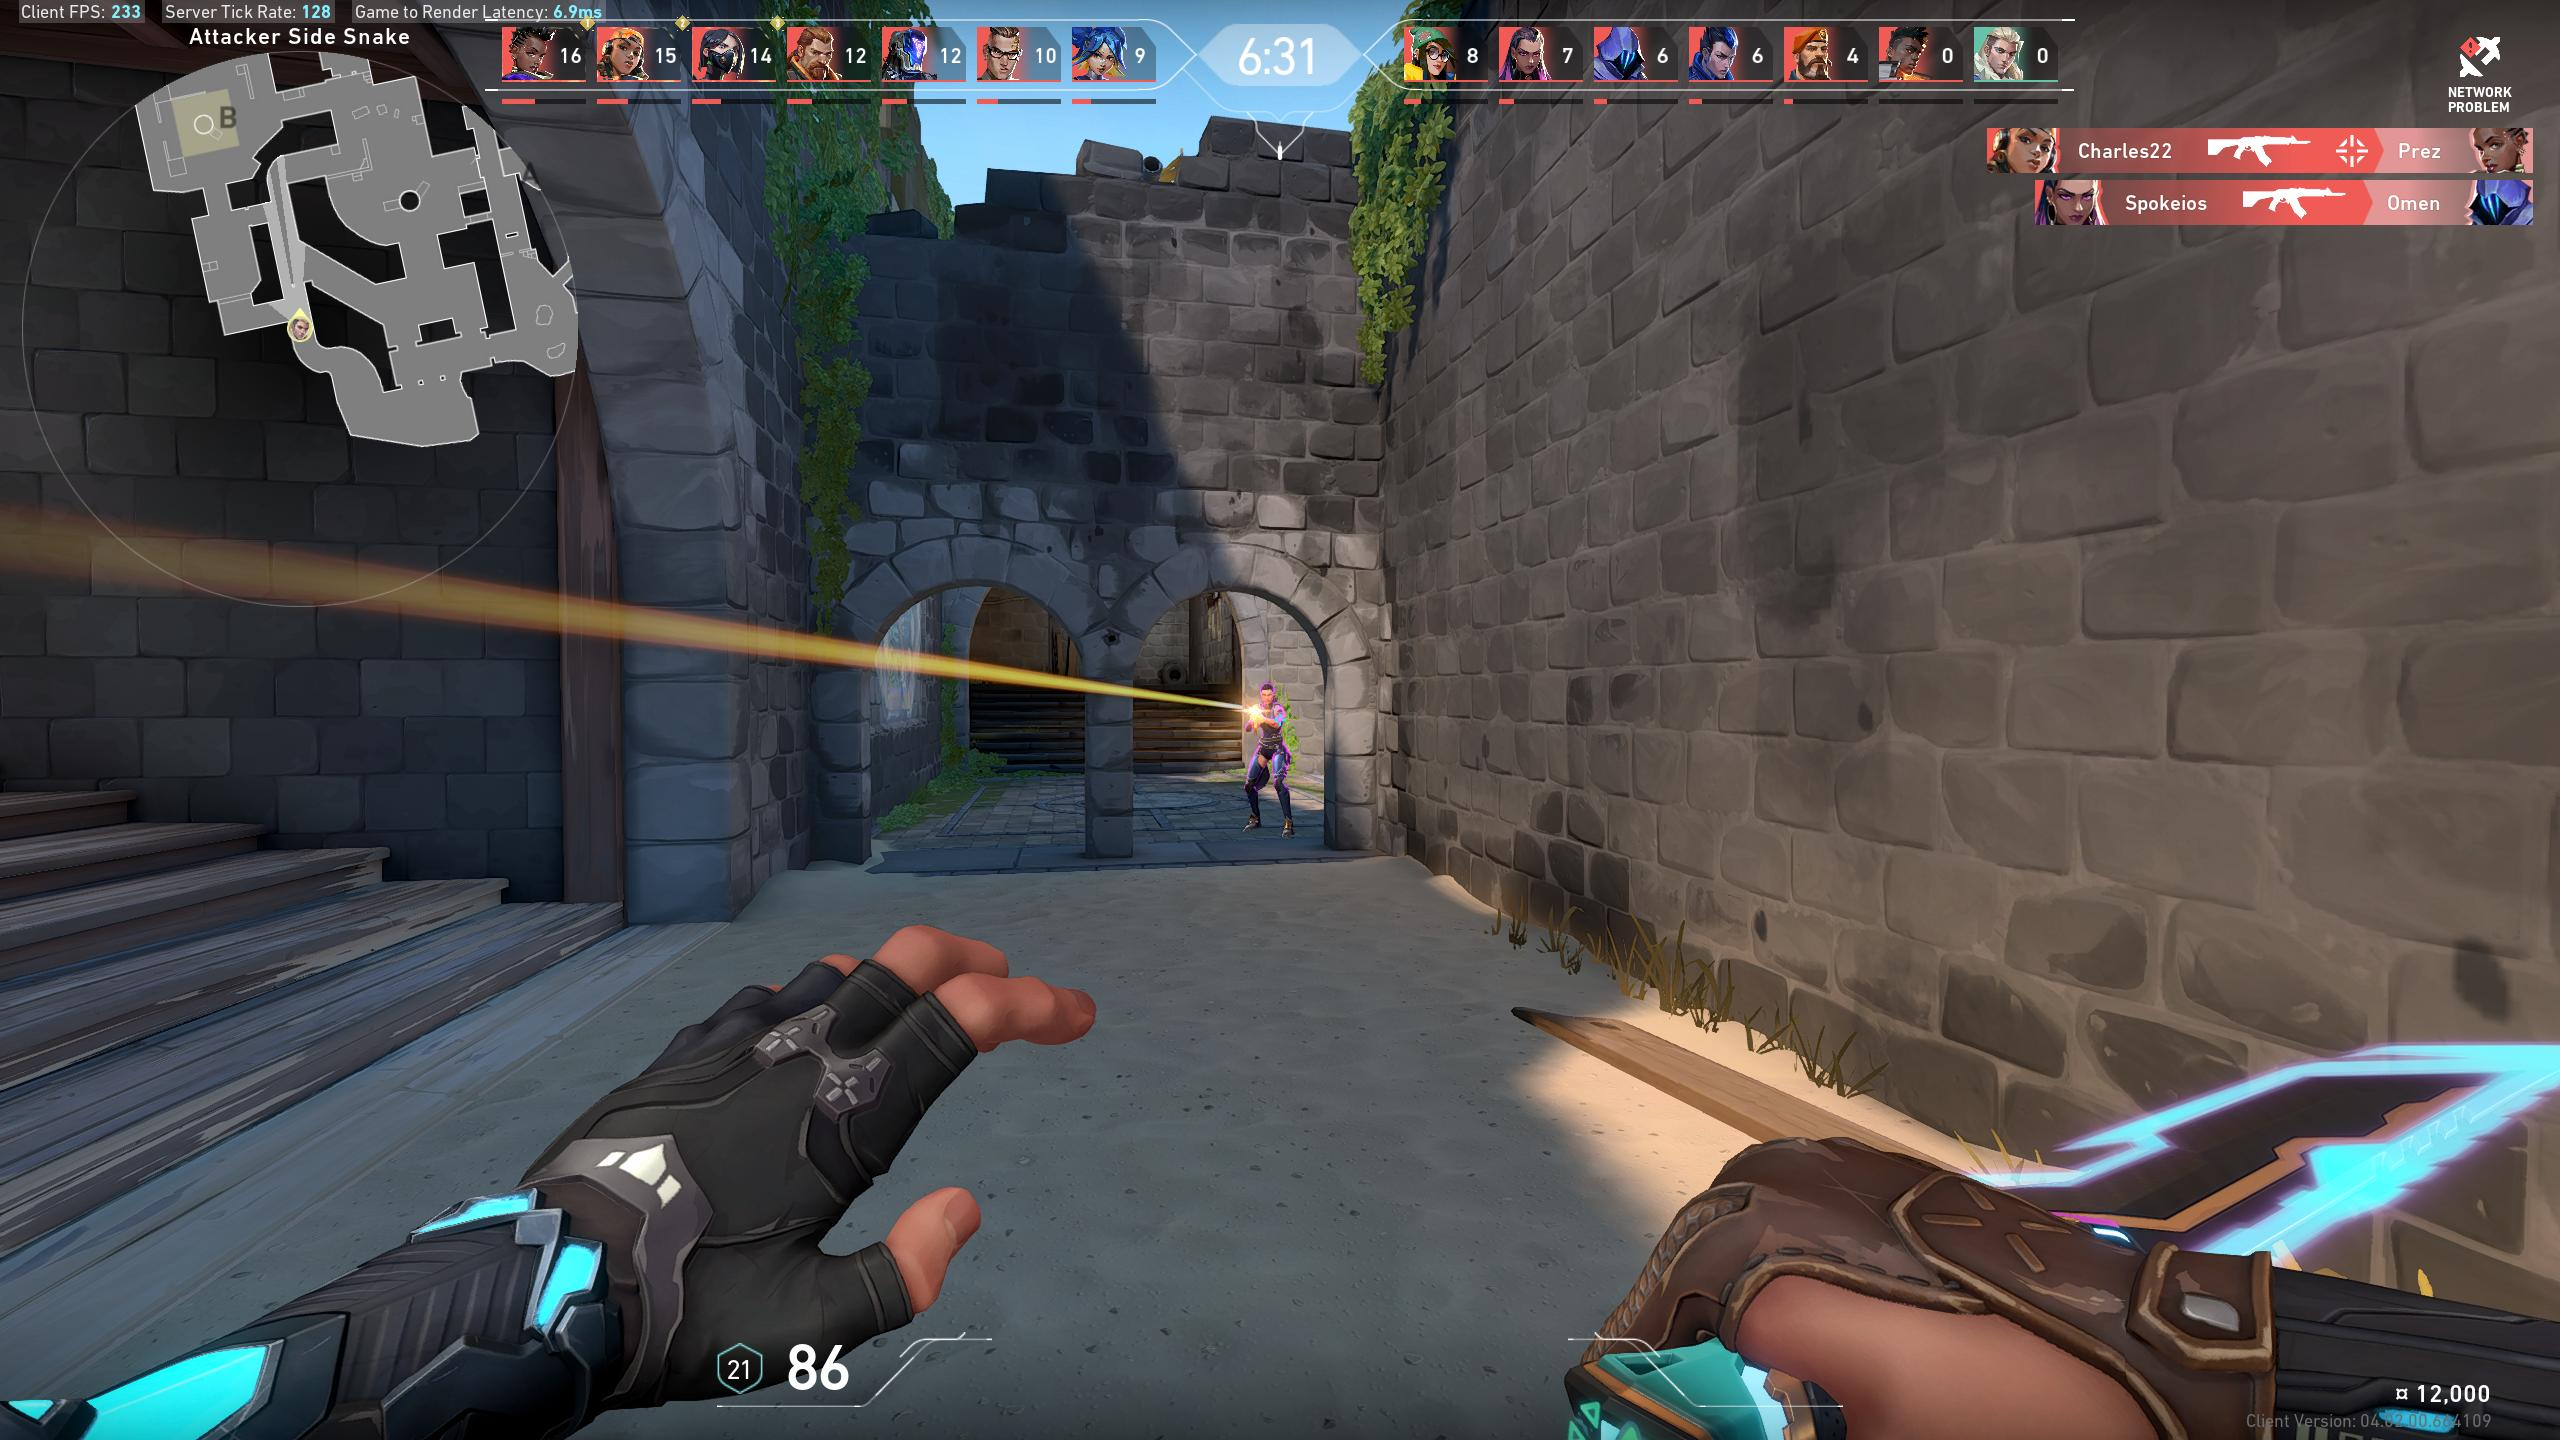enemyBody: (1261, 709, 1276, 740)
enemyHead: (1261, 686, 1271, 703)
